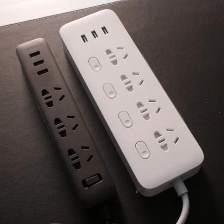three_eye_plug: (57, 5, 207, 200), (13, 34, 118, 209)
